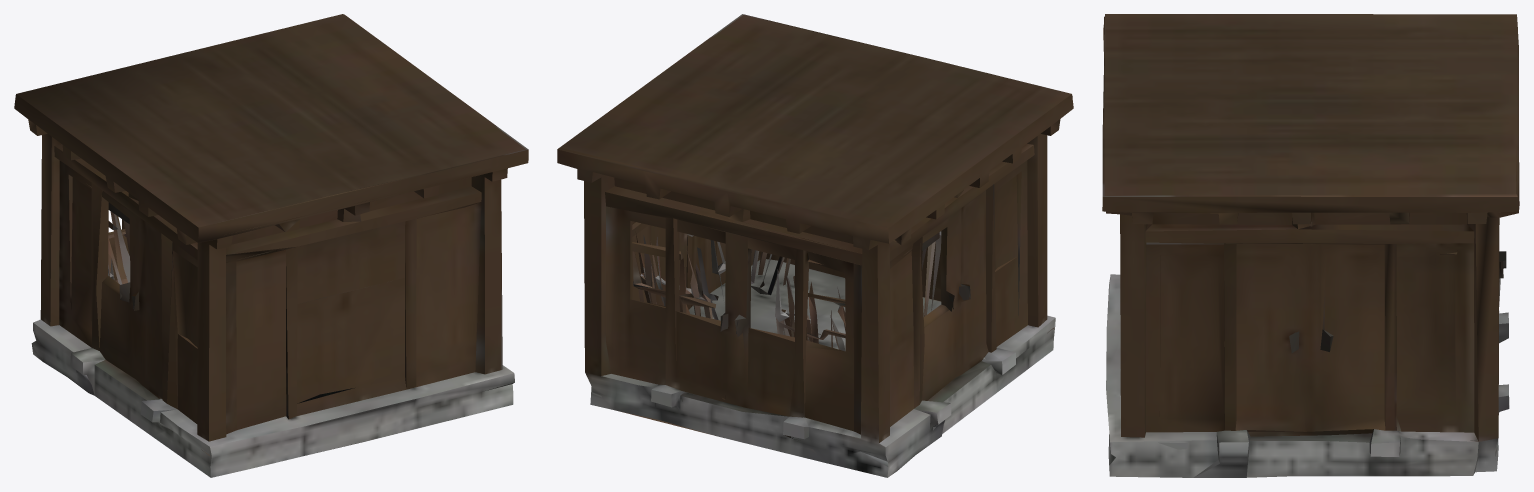
The model's file is 軍械庫.glb.
3 views of the same model, side by side, from view 1: azimuth 30°, elevation 25°; view 2: azimuth 150°, elevation 25°; view 3: azimuth 270°, elevation 25° (orthographic). The views are drawn at different scales.
Visible parts, largest first — view 1: geometry_0; view 2: geometry_0; view 3: geometry_0.
Boxes of the visible parts, x1,y1,x2,y2 form: geometry_0: [14, 14, 528, 477]; geometry_0: [557, 14, 1073, 477]; geometry_0: [1102, 14, 1519, 477].
Size of the model in its own units: 1 by 0.7497 by 0.9716.
Materials: 1 (1 with a texture image).
